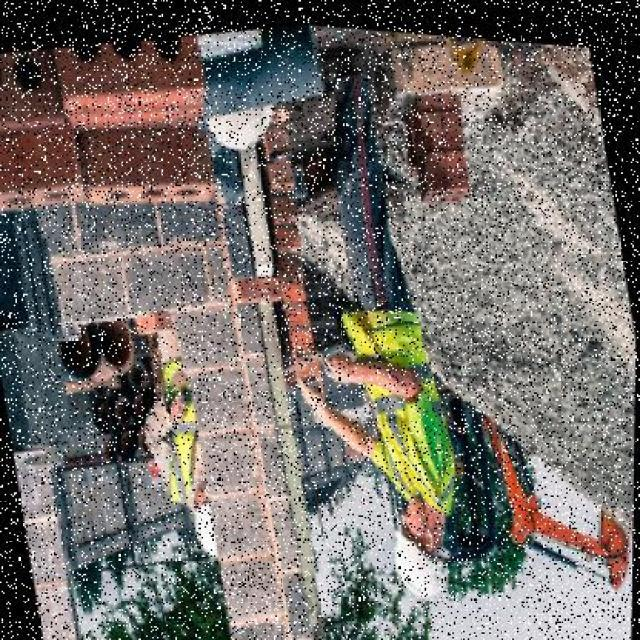helmet: (380, 503, 462, 605)
vest: (353, 274, 457, 506)
